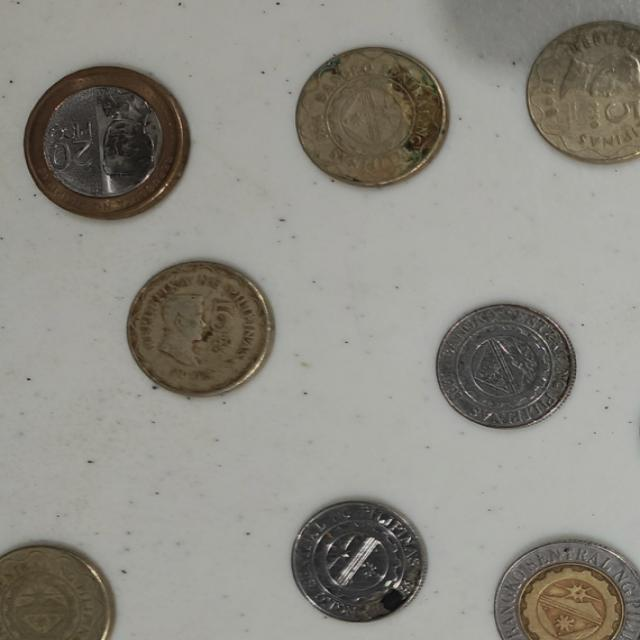10_peso: (495, 540, 639, 639)
1_peso: (437, 304, 575, 427), (292, 501, 426, 620)
20_peso: (25, 66, 189, 219)
5_peso: (296, 47, 447, 186), (128, 262, 272, 395), (528, 21, 639, 163), (0, 545, 112, 639)
